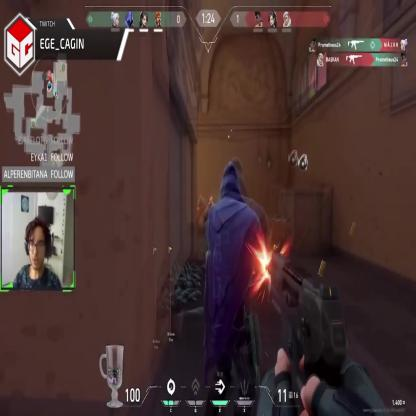enemy: (206, 198, 216, 256)
enemy_head: (209, 198, 213, 206)
